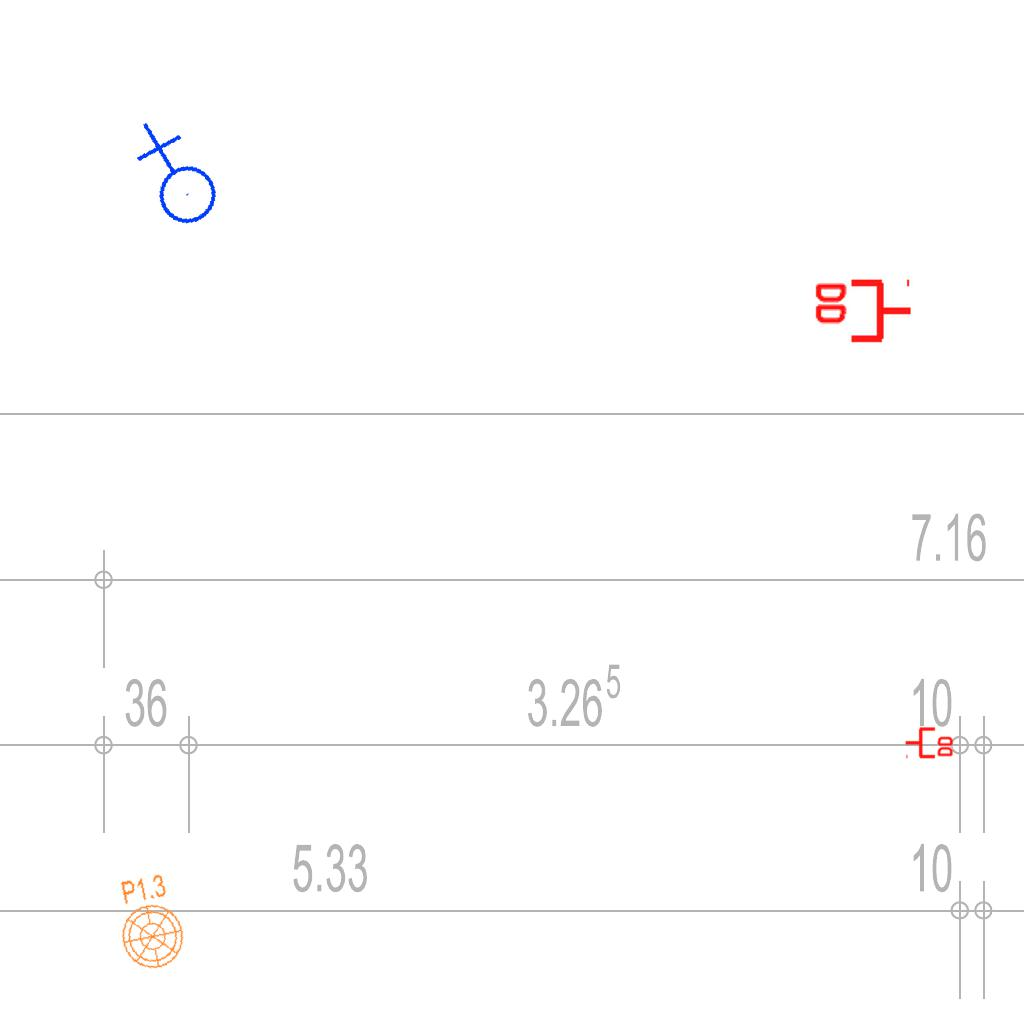Aufbaurundleuchte_LED_Treppenhaus: (108, 861, 196, 976)
Datenanschluss_zweifach: (811, 278, 914, 347), (904, 725, 955, 759)
Elektroanschluss_allgemein_230V_Geraeteanschlussdose_230V: (116, 120, 231, 238)
